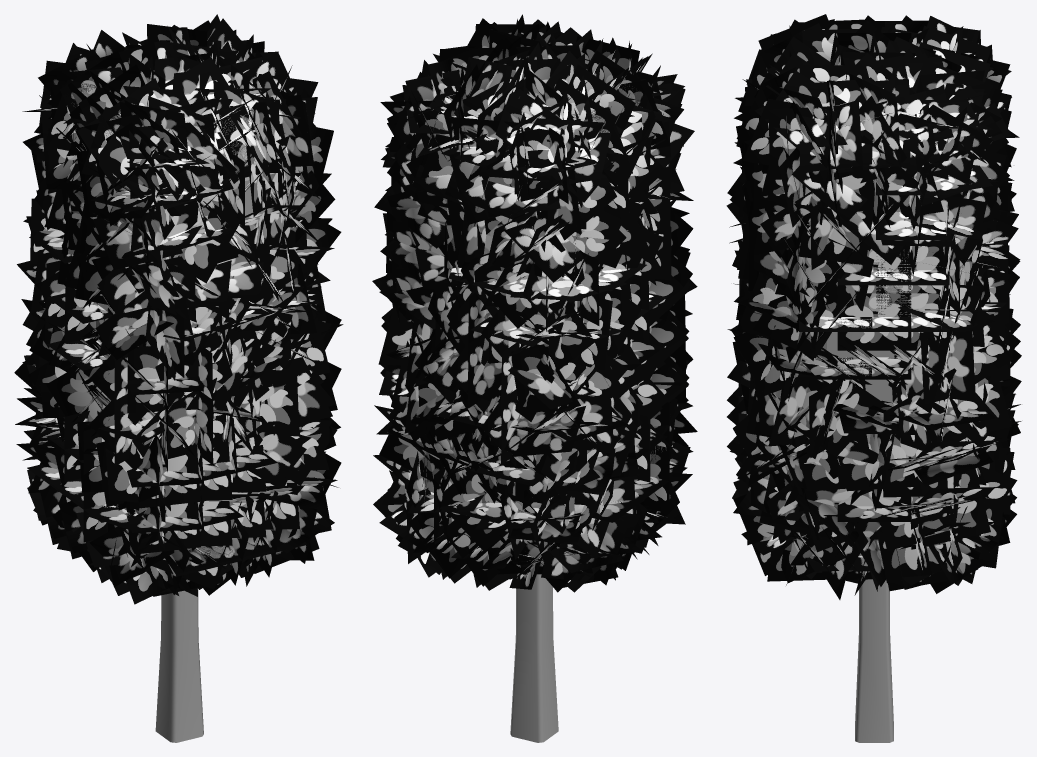
Rendered from Tree_02_B.fbx.
The picture shows the model from 3 angles, left to right: view 1: azimuth 30°, elevation 25°; view 2: azimuth 150°, elevation 25°; view 3: azimuth 270°, elevation 25°; orthographic projection.
Parts seen in each view (by area): view 1: Tree_02_B_Leaves, Tree_02_B_Trunk; view 2: Tree_02_B_Leaves, Tree_02_B_Trunk; view 3: Tree_02_B_Leaves, Tree_02_B_Trunk, Tree_02_B_Inside.
Boxes of the visible parts, box(x1,y1,x2,y2) form: Tree_02_B_Leaves: box(14, 14, 343, 604); Tree_02_B_Trunk: box(155, 588, 203, 742); Tree_02_B_Leaves: box(372, 14, 697, 592); Tree_02_B_Trunk: box(510, 574, 558, 742); Tree_02_B_Leaves: box(726, 14, 1021, 599); Tree_02_B_Trunk: box(855, 579, 893, 742); Tree_02_B_Inside: box(822, 207, 900, 442).
Size of the model in its own units: 1.61 by 4.15 by 1.59.
